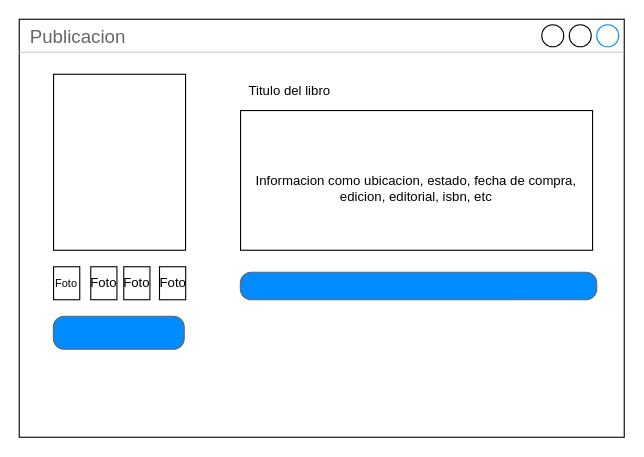
Some shapes in this 644 by 457 pixel diagram are drawn without their labels. Each missing label, with the centre of its shape:
Portada: the point at 119,161
Seleccionar libro: the point at 418,285
Subir fotos: the point at 118,332
